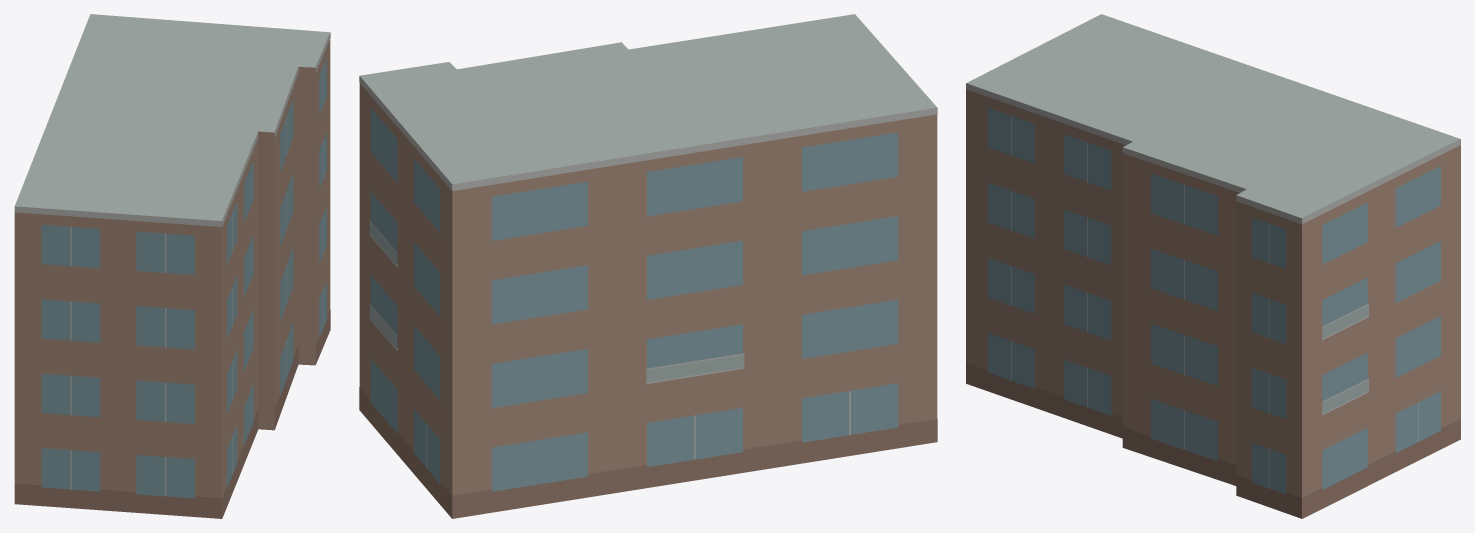
The model's file is survey-upis-32606433.glb.
3 renders of one model, left to right at view 1: azimuth 30°, elevation 25°; view 2: azimuth 150°, elevation 25°; view 3: azimuth 270°, elevation 25°, orthographic. The views are drawn at different scales.
Parts seen in each view (by area): view 1: survey-upis-32606433.tmp; view 2: survey-upis-32606433.tmp; view 3: survey-upis-32606433.tmp.
Part boxes in pixels (left/top/right/bottom): survey-upis-32606433.tmp: left=14, top=14, right=330, bottom=518; survey-upis-32606433.tmp: left=359, top=14, right=937, bottom=518; survey-upis-32606433.tmp: left=966, top=14, right=1460, bottom=518.
Size of the model in its own units: 17.84 by 12.22 by 18.24.
